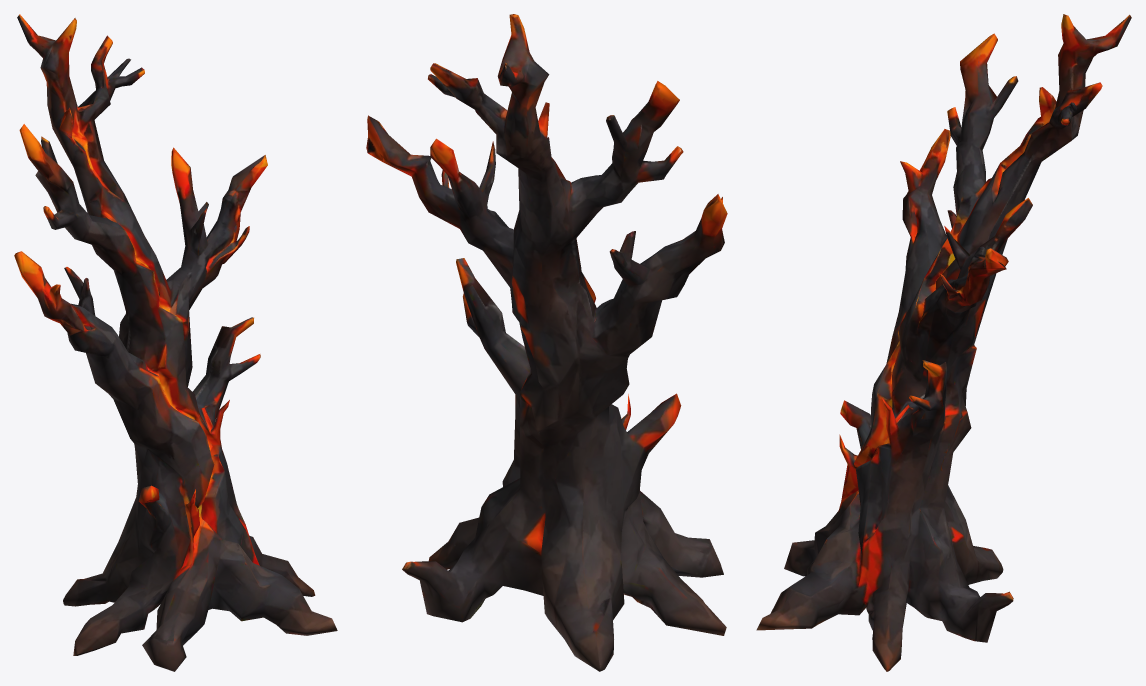
The model's file is tree_volcano_tall.glb.
The picture shows the model from 3 angles, left to right: view 1: azimuth 30°, elevation 25°; view 2: azimuth 150°, elevation 25°; view 3: azimuth 270°, elevation 25°; orthographic projection. The views are drawn at different scales.
Visible parts, largest first — view 1: BakeLow; view 2: BakeLow; view 3: BakeLow.
Part boxes in pixels (x1,y1,x2,y2): BakeLow: (14, 14, 337, 671); BakeLow: (366, 14, 727, 671); BakeLow: (756, 14, 1131, 671).
Size of the model in its own units: 0.438 by 0.8533 by 0.5021.
1 material, 1 textured.
